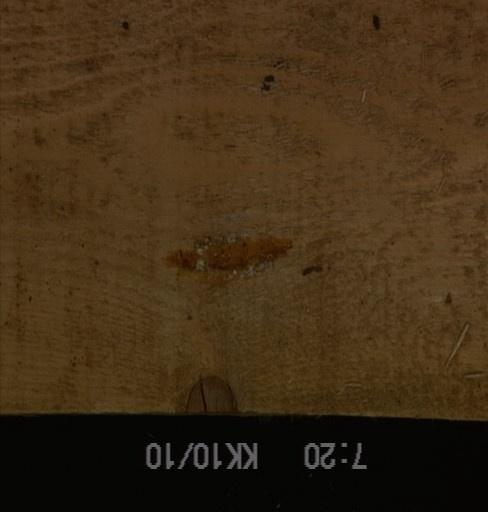edge_knot: (182, 375, 242, 414)
